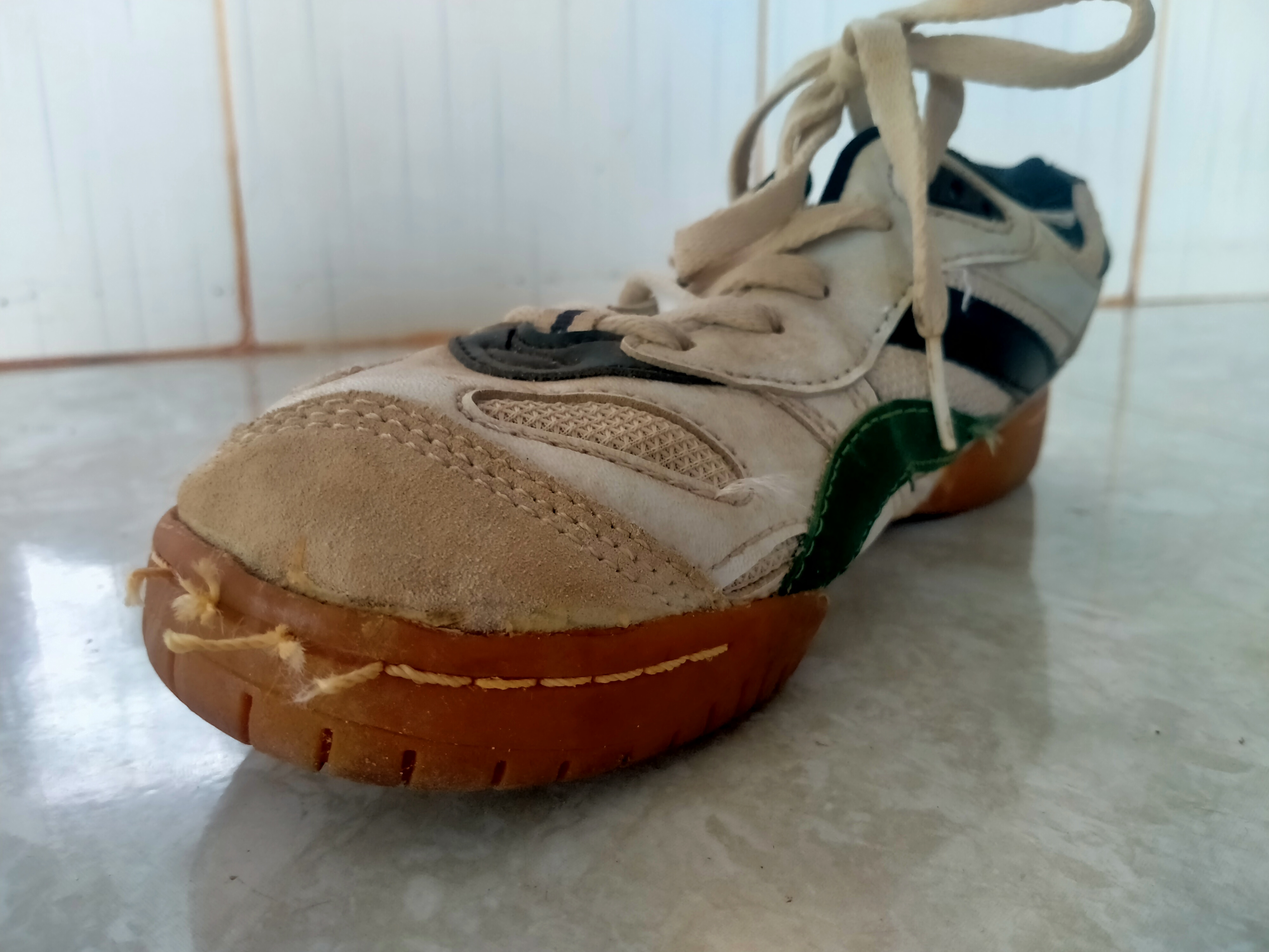broken: (167, 563, 400, 689)
